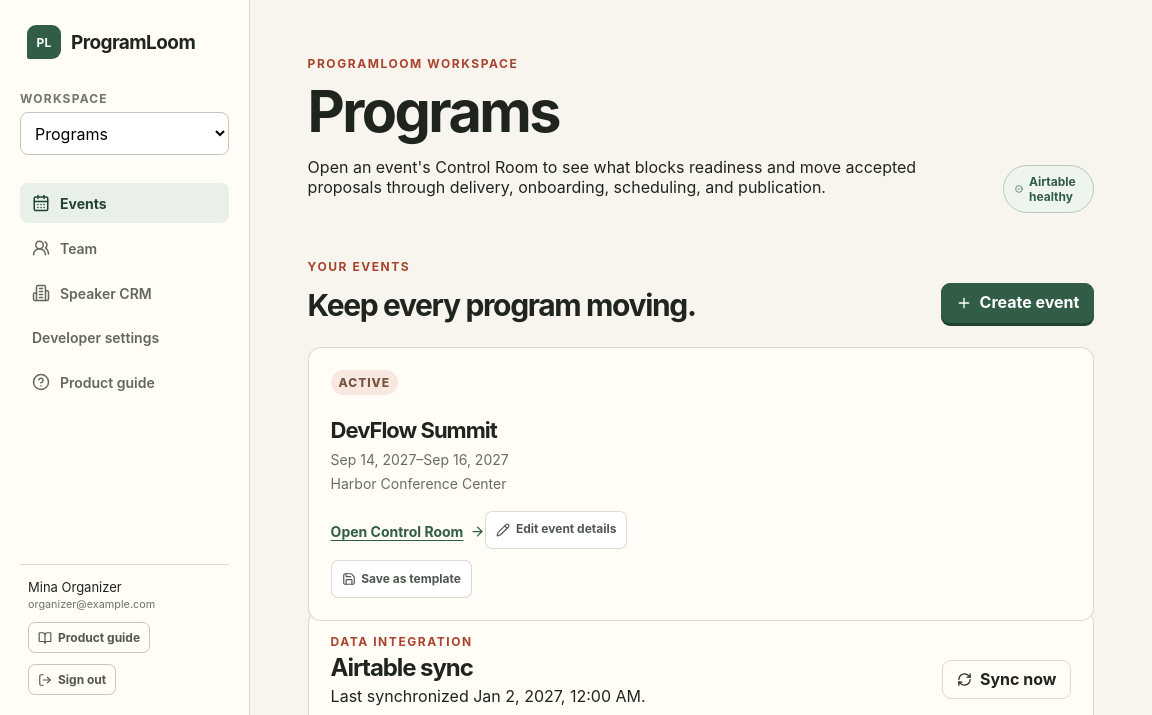
it: organizer onboarding › puts organizer events first and makes event identity visibly editable
Click the button "Edit event details". click: (556, 530)
box: [485, 511, 628, 549]
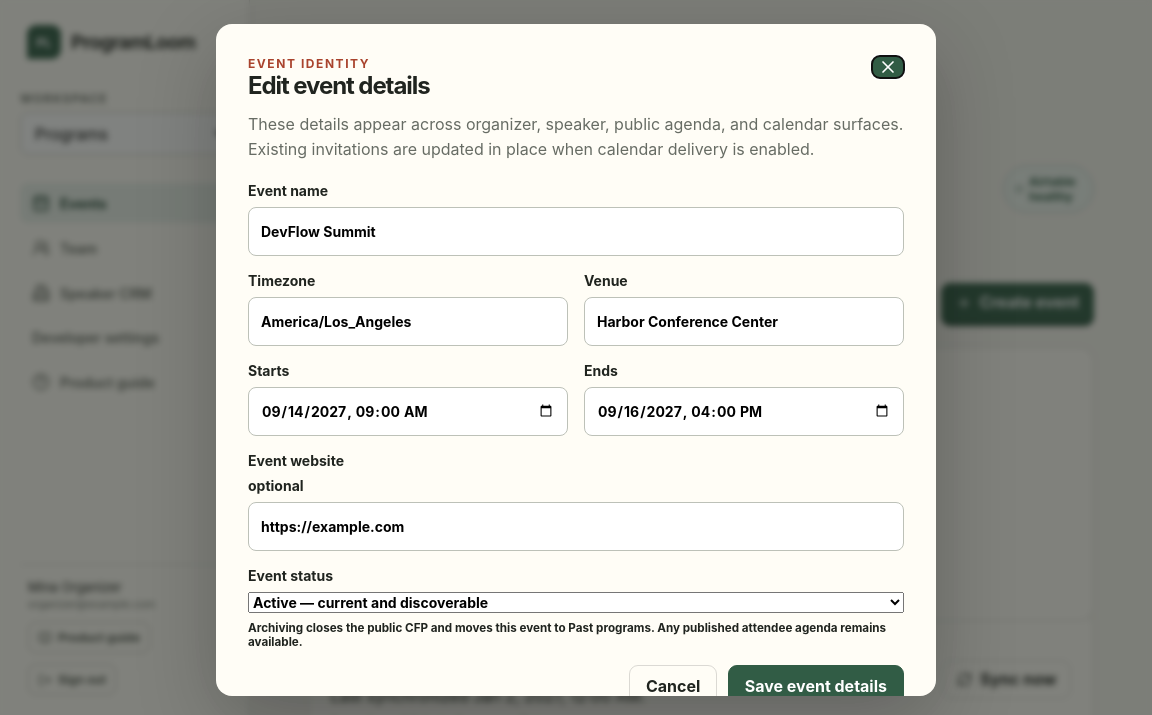
Now the dialog "Edit event details" is shown, box [216, 24, 936, 696]
Now the field labelled "Event name" holds "DevFlow Summit", box [248, 207, 904, 256]
Now the dropdown labelled "Event status" shows "Active — current and discoverable", box [248, 592, 904, 613]
